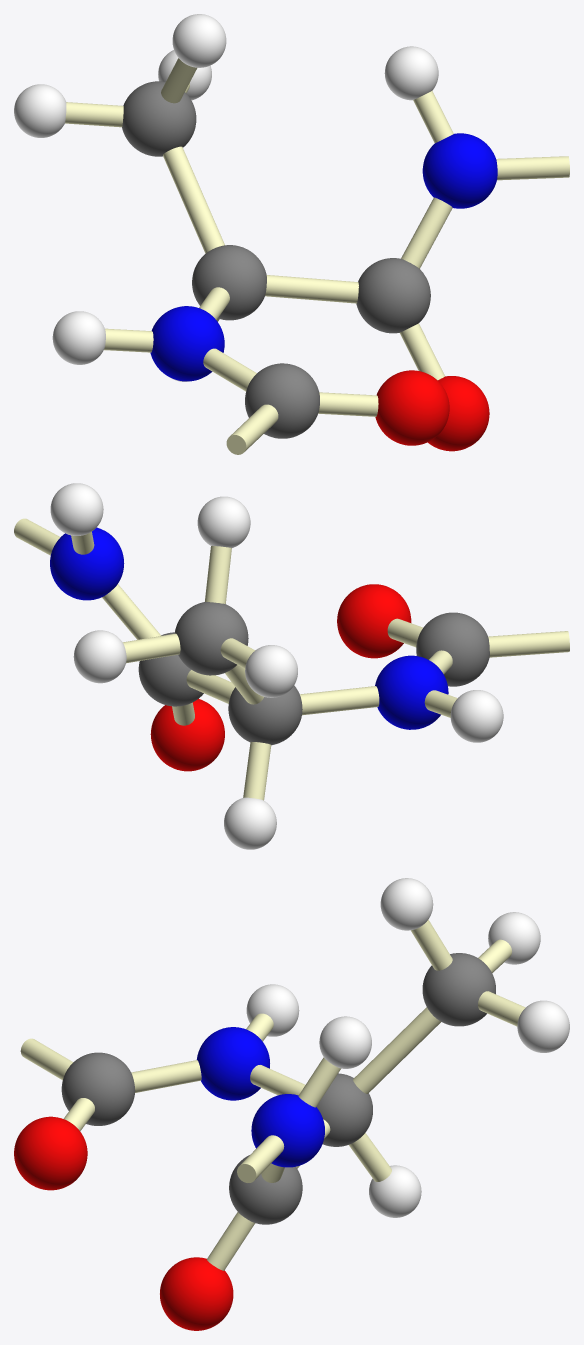
The model's file is conformation.gltf.
3 views of the same model, one above another, from view 1: azimuth 30°, elevation 25°; view 2: azimuth 150°, elevation 25°; view 3: azimuth 270°, elevation 25° (orthographic). The views are drawn at different scales.
Visible parts, largest first — view 1: ?????????2, ?????????13, ?????????5, ?????????3, ?????????9, ?????????1, ?????????4, ?????????6, ?????????22, ?????????12, ?????????7, ?????????10 (+14 smaller); view 2: ?????????2, ?????????3, ?????????6, ?????????13, ?????????9, ?????????1, ?????????4, ?????????5, ?????????14, ?????????7, ?????????11, ?????????10 (+14 smaller); view 3: ?????????2, ?????????6, ?????????3, ?????????1, ?????????9, ?????????13, ?????????5, ?????????4, ?????????22, ?????????12, ?????????11, ?????????14 (+14 smaller).
Part boxes in pixels (x1,y1,x2,y2): ?????????2: [375, 370, 449, 445]; ?????????13: [422, 133, 497, 208]; ?????????5: [356, 258, 430, 333]; ?????????3: [150, 306, 224, 381]; ?????????9: [122, 81, 196, 156]; ?????????1: [245, 363, 319, 438]; ?????????4: [192, 245, 266, 320]; ?????????6: [428, 376, 489, 451]; ?????????22: [163, 146, 224, 253]; ?????????12: [172, 14, 226, 67]; ?????????7: [52, 311, 105, 364]; ?????????10: [14, 84, 66, 137]; ?????????2: [337, 584, 411, 658]; ?????????3: [375, 655, 448, 729]; ?????????6: [150, 698, 224, 771]; ?????????13: [50, 527, 124, 600]; ?????????9: [174, 602, 248, 675]; ?????????1: [416, 612, 489, 686]; ?????????4: [228, 685, 302, 745]; ?????????5: [138, 632, 203, 706]; ?????????14: [50, 483, 103, 535]; ?????????7: [450, 690, 503, 742]; ?????????11: [73, 630, 126, 683]; ?????????10: [245, 645, 297, 697]; ?????????2: [14, 1116, 87, 1190]; ?????????6: [160, 1257, 233, 1330]; ?????????3: [196, 1027, 269, 1100]; ?????????1: [61, 1052, 135, 1125]; ?????????9: [422, 953, 495, 1026]; ?????????13: [251, 1094, 324, 1167]; ?????????5: [229, 1155, 302, 1224]; ?????????4: [316, 1073, 372, 1146]; ?????????22: [353, 1007, 440, 1093]; ?????????12: [380, 878, 433, 930]; ?????????11: [517, 1000, 569, 1052]; ?????????14: [319, 1016, 371, 1068].
Bounding box in the file's own units: 53.81 × 39.64 × 52.85.
